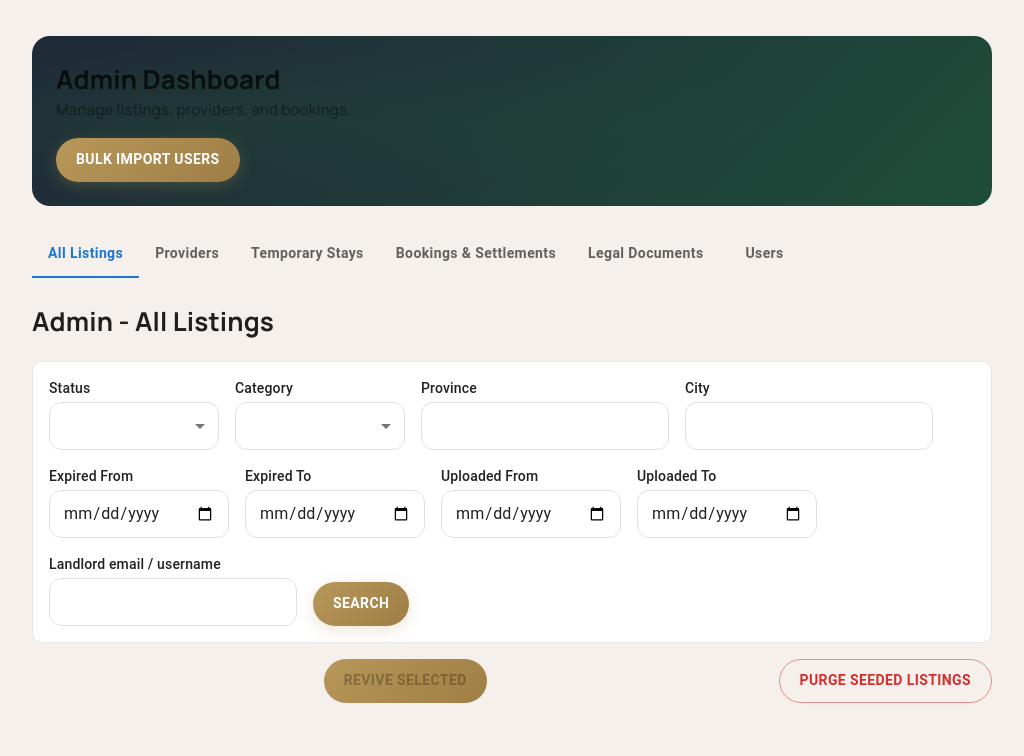
Test case: Admin Dashboard - Users Tab › displays users table with correct columns
Click the tab "Users".
click(765, 254)  # box [720,230,810,278]
(page scrolled)
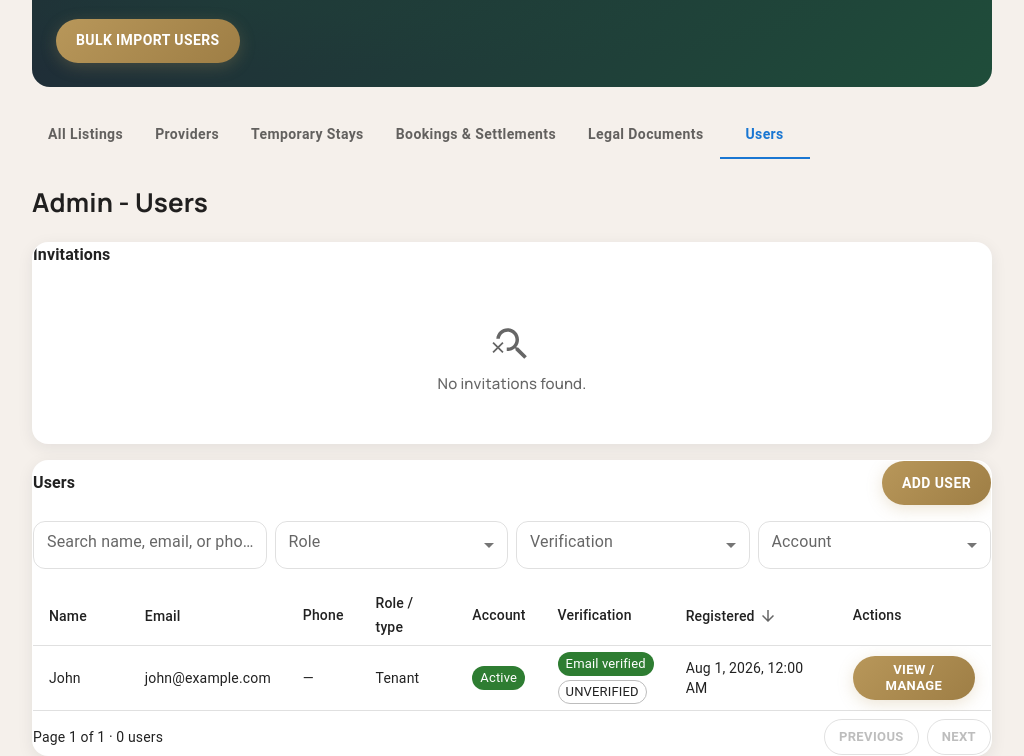
Now the text "John" is shown, box [33,646,129,711]
Now the text "john@example.com" is shown, box [129,646,287,711]
Now the text "Tenant" is shown, box [360,646,456,711]
